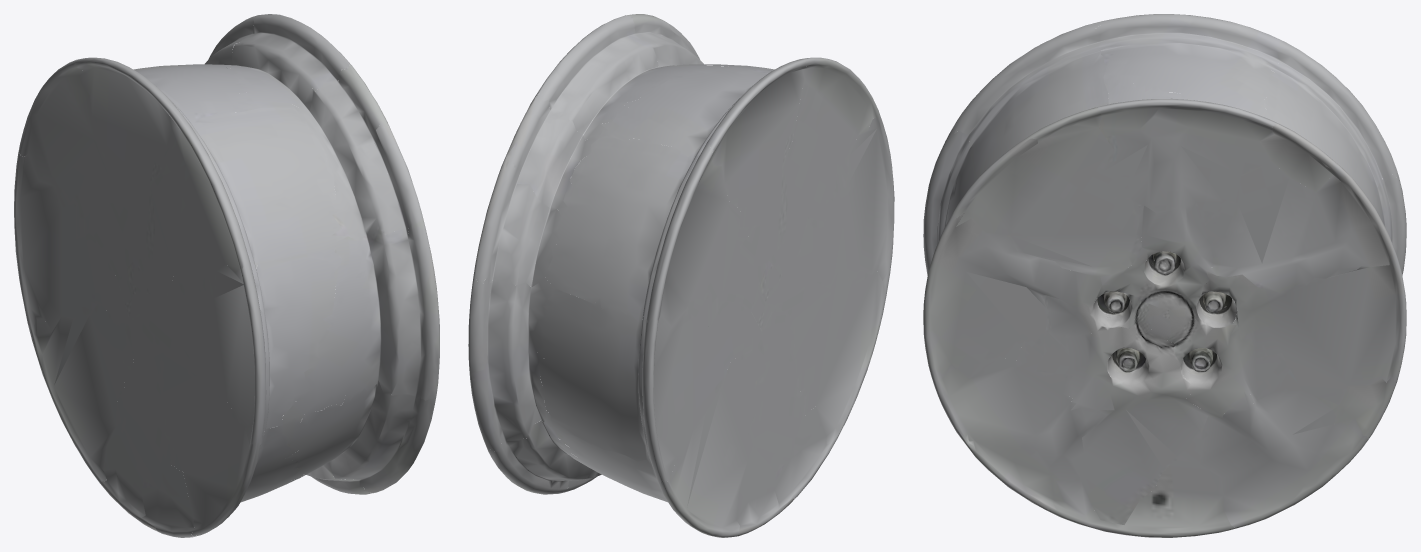
Rendered from drago_rim.glb.
3 renders of one model, left to right at view 1: azimuth 30°, elevation 25°; view 2: azimuth 150°, elevation 25°; view 3: azimuth 270°, elevation 25°, orthographic.
Parts seen in each view (by area): view 1: tripo_node_1423fa54-a073-4549-b2ed-0541b312ca01; view 2: tripo_node_1423fa54-a073-4549-b2ed-0541b312ca01; view 3: tripo_node_1423fa54-a073-4549-b2ed-0541b312ca01.
Part boxes in pixels (bbox=[...]): tripo_node_1423fa54-a073-4549-b2ed-0541b312ca01: bbox=[14, 14, 439, 537]; tripo_node_1423fa54-a073-4549-b2ed-0541b312ca01: bbox=[468, 14, 894, 537]; tripo_node_1423fa54-a073-4549-b2ed-0541b312ca01: bbox=[923, 14, 1406, 537].
Bounding box in the file's own units: 0.4336 × 0.9993 × 1.
Materials: 1 (1 with a texture image).
